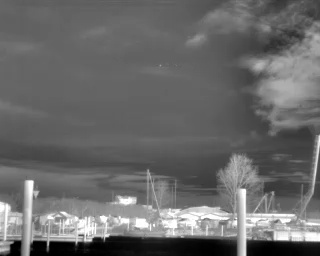BIRD: (158, 62, 163, 69)
